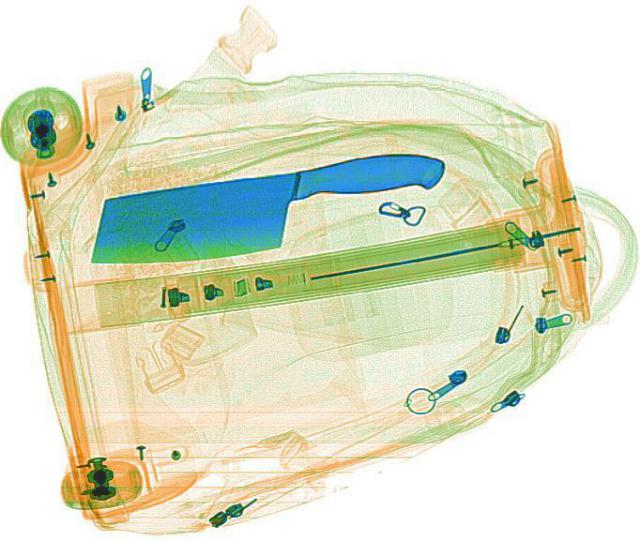Knife: (72, 144, 456, 270)
